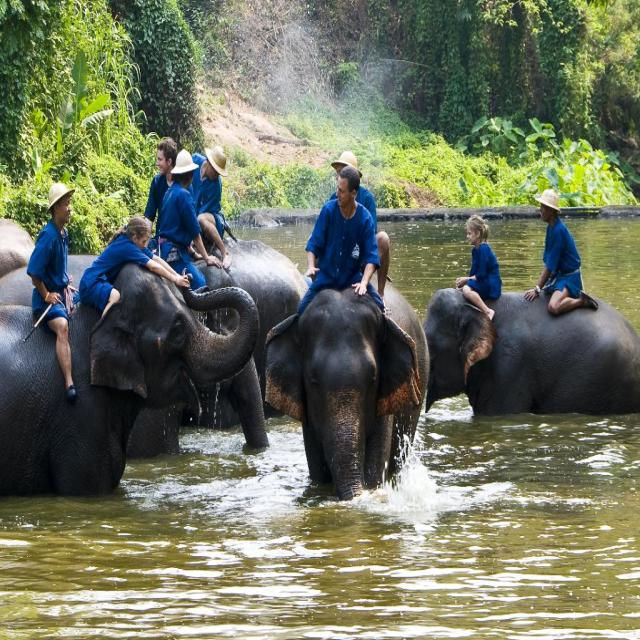Elephant: (0, 241, 264, 525), (269, 243, 434, 522), (413, 275, 640, 460)
